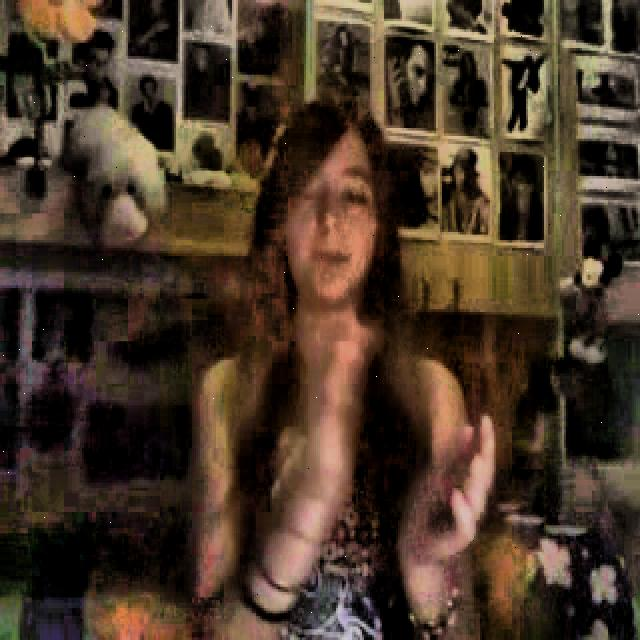F: (180, 91, 494, 640)
